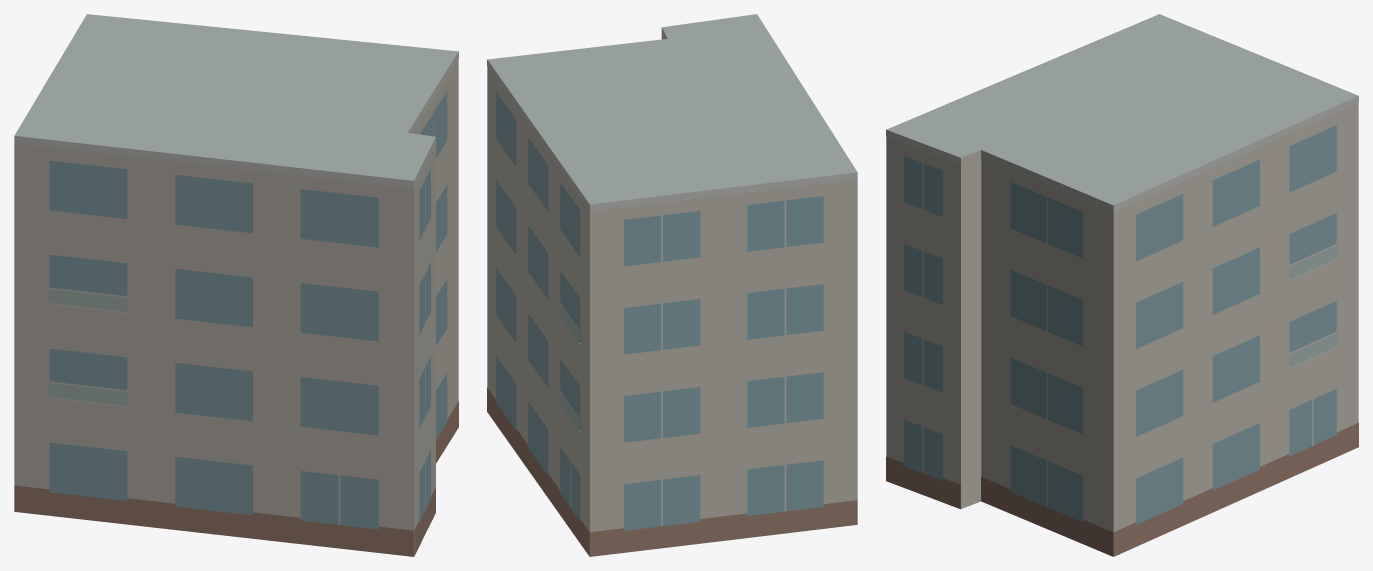
Rendered from survey-upis-32925623.glb.
3 views of the same model, side by side, from view 1: azimuth 30°, elevation 25°; view 2: azimuth 150°, elevation 25°; view 3: azimuth 270°, elevation 25° (orthographic). The views are drawn at different scales.
Visible parts, largest first — view 1: survey-upis-32925623.tmp; view 2: survey-upis-32925623.tmp; view 3: survey-upis-32925623.tmp.
Boxes of the visible parts, bbox=[...] form: survey-upis-32925623.tmp: bbox=[14, 14, 458, 556]; survey-upis-32925623.tmp: bbox=[487, 14, 857, 556]; survey-upis-32925623.tmp: bbox=[886, 14, 1358, 556].
Bounding box in the file's own units: 14.26 × 12.2 × 14.87.
